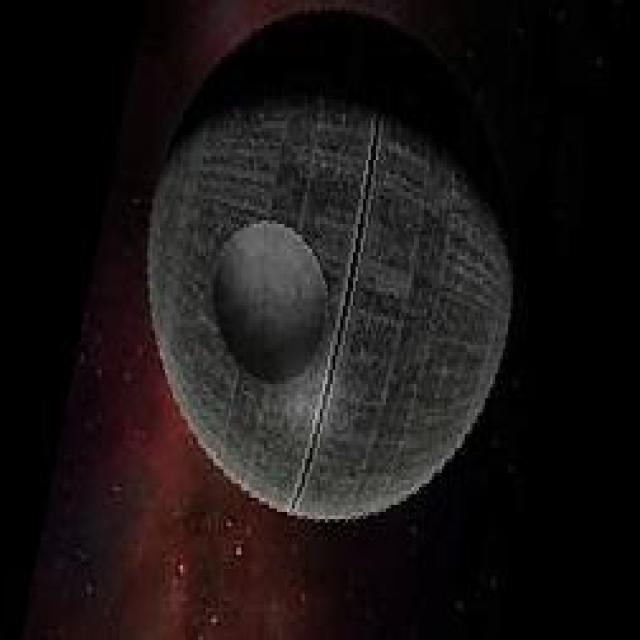Death Star: (143, 10, 532, 520)
